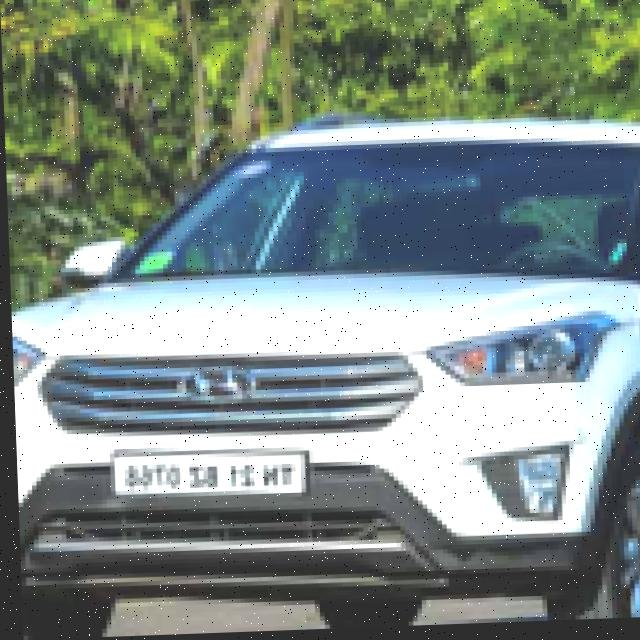plate: (106, 444, 312, 500)
